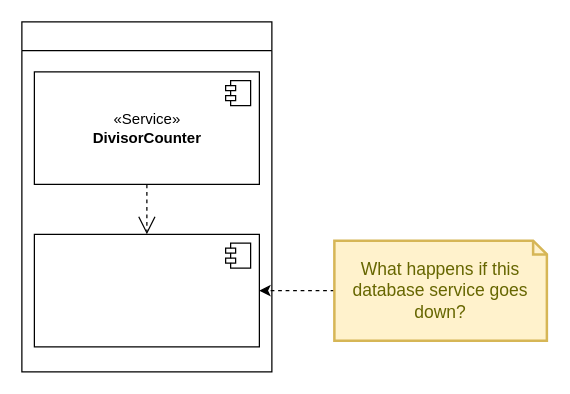
Image size: 570x394. Some labels were removed from this diagram. Here are the shapes that lost their labels. From the top down, the box of each, then its label:
(21, 21, 272, 372): App
(33, 233, 259, 347): «Database» CacheDatabase
